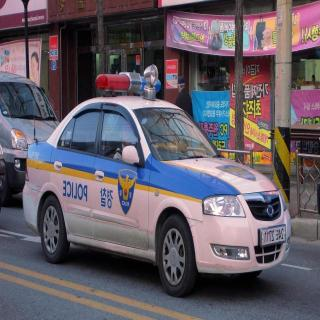Police_car: (23, 72, 293, 290)
